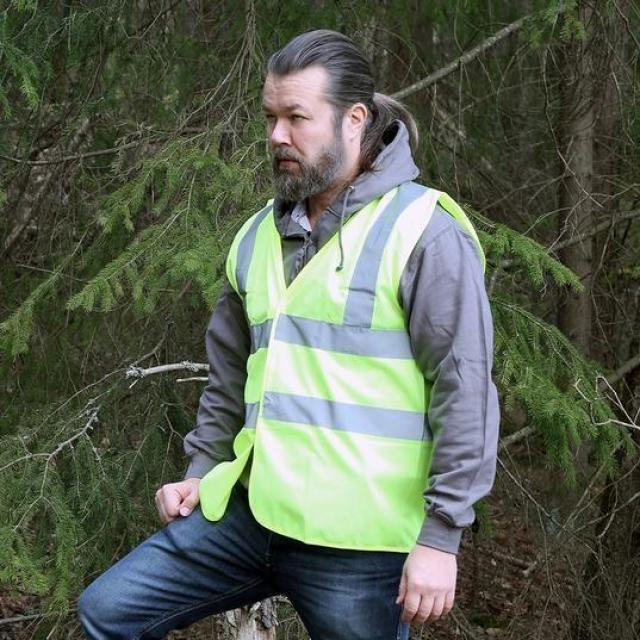no-helmet: (260, 26, 380, 146)
vest: (199, 179, 489, 552)
